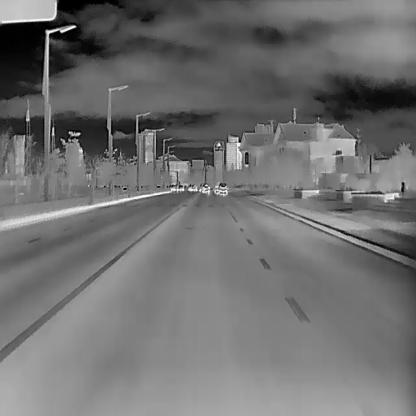car: (217, 182, 227, 195), (213, 184, 222, 194), (188, 183, 197, 192), (202, 183, 210, 193)
